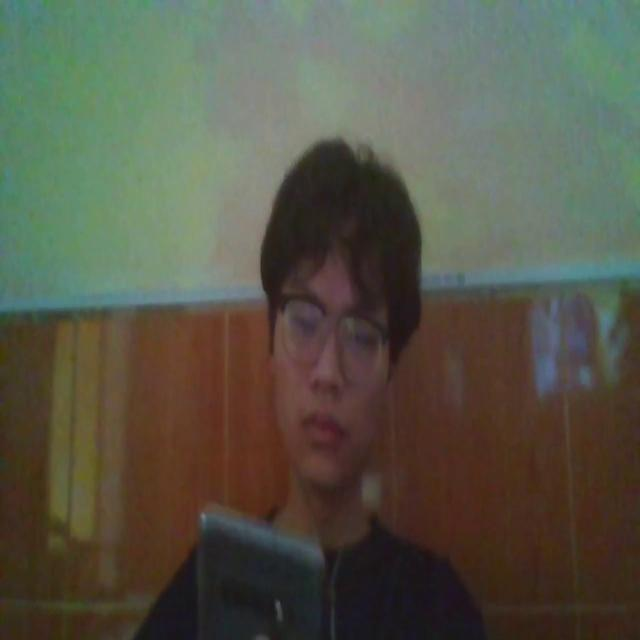phone: (193, 493, 329, 640)
student: (131, 130, 489, 640)
